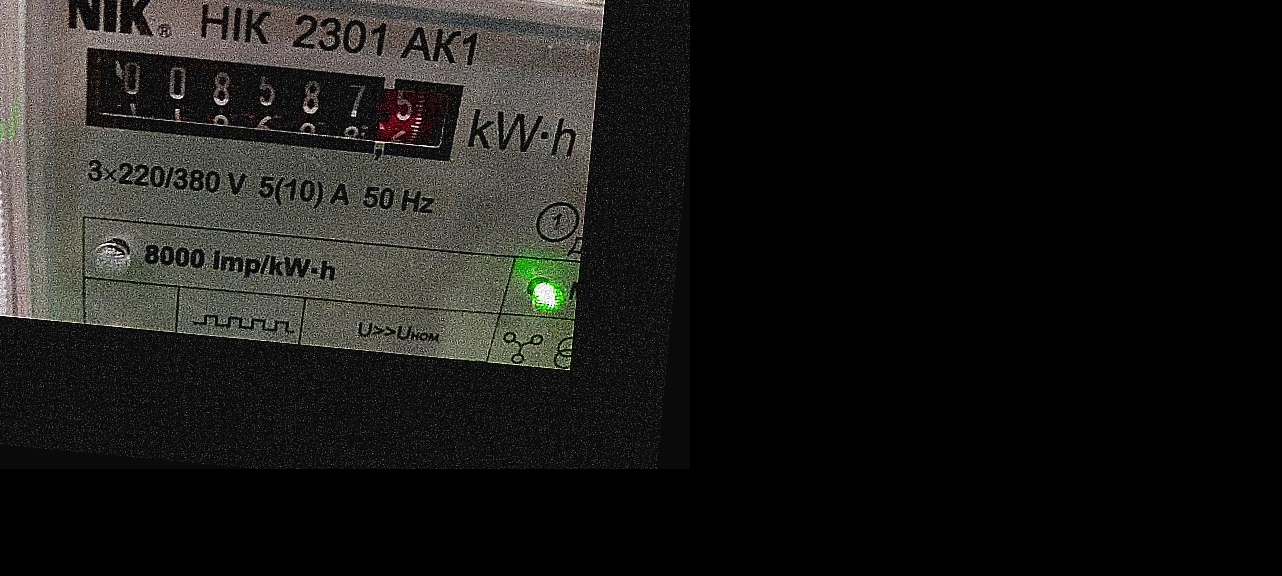0: (162, 60, 190, 102)
1: (116, 56, 144, 99)
5: (390, 83, 418, 125), (253, 70, 279, 110)
7: (341, 79, 368, 122)
8: (206, 66, 234, 109), (297, 75, 322, 118)
screen: (56, 26, 484, 184)
